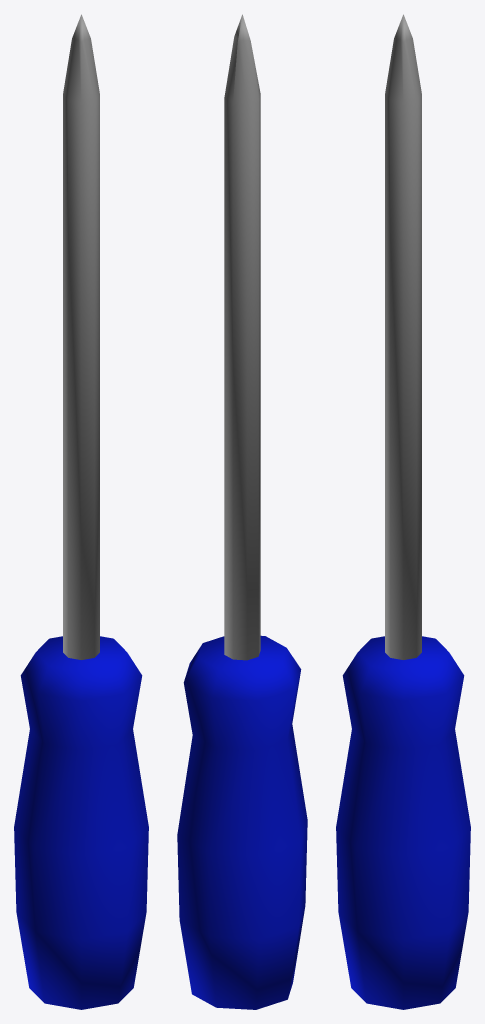
File: SCREWDRIVER.fbx
3 renders of one model, left to right at view 1: azimuth 90°, elevation 25°; view 2: azimuth 150°, elevation 25°; view 3: azimuth 270°, elevation 25°, orthographic.
Visible parts, largest first — view 1: Cylinder; view 2: Cylinder; view 3: Cylinder.
Boxes of the visible parts, x1,y1,x2,y2 form: Cylinder: (14,14,148,1009); Cylinder: (177,14,307,1009); Cylinder: (336,14,470,1009).
Size of the model in its own units: 147 by 1171 by 147.
